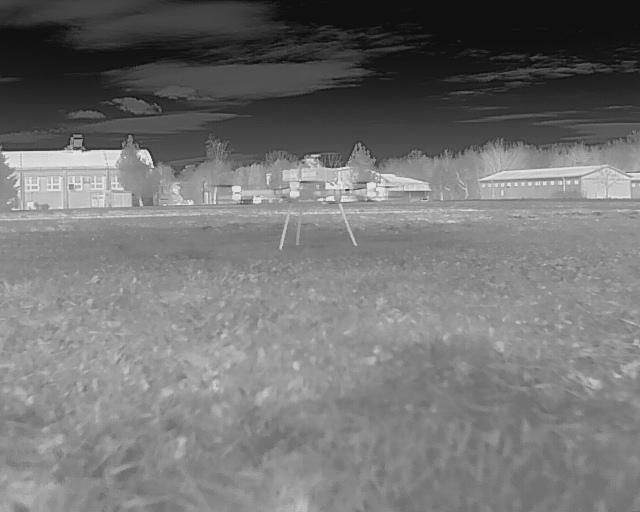drone: (201, 154, 408, 260)
